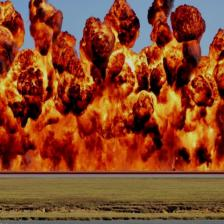fire: (0, 0, 224, 174)
